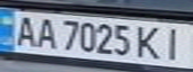0: (78, 19, 96, 54)
2: (93, 20, 115, 56)
5: (112, 21, 136, 57)
7: (57, 17, 81, 52)
A: (9, 14, 42, 47), (33, 16, 57, 50)
I: (160, 25, 190, 62)
K: (133, 24, 166, 61)
